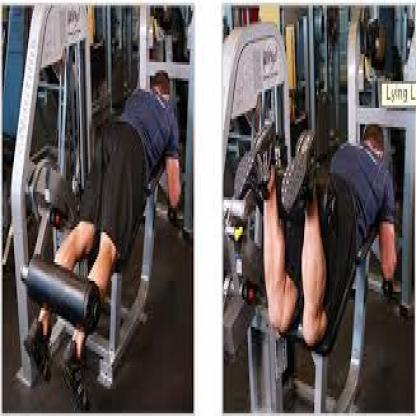reg curl machine: (220, 25, 402, 416), (12, 4, 184, 404)
